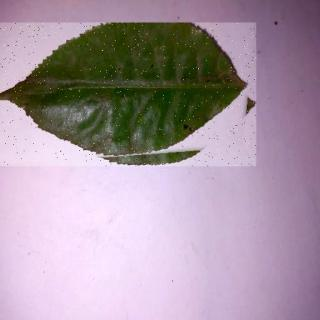Bird Eye Spot: (1, 24, 257, 168)
